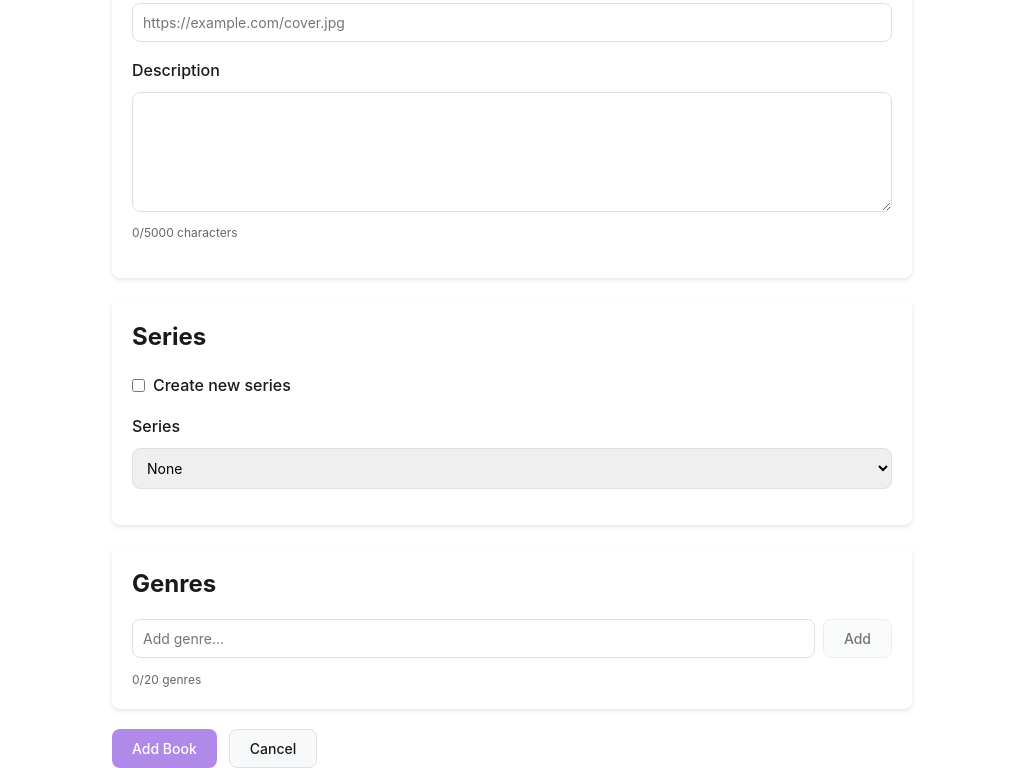
Test: AddBook › Series functionality › should hide position input when series is deselected
The width and height of the screenshot is (1024, 768).
(page scrolled)
Select a series - use querySelector to avoid ambiguity with heading
Select "Test Series by Series Author" in the dropdown with id "seriesId" at (512, 468), box [132,448,892,489]
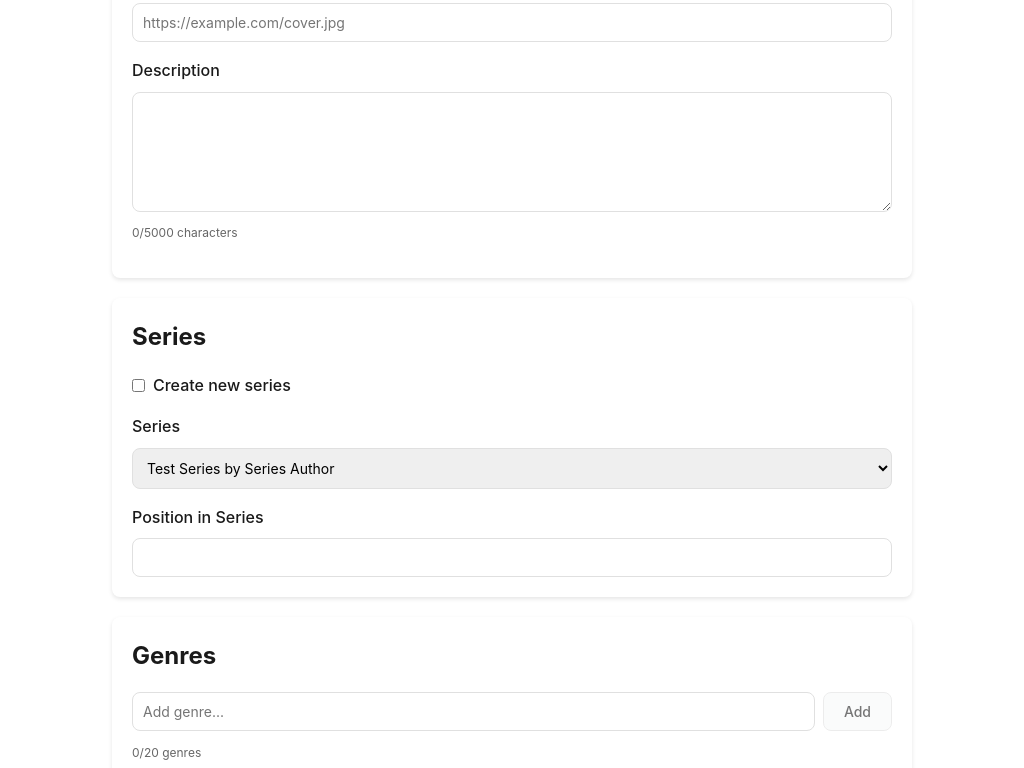
Check: the number field labelled "Position in Series" is shown, box [132,538,892,578]
Deselect series
Select "None" in the dropdown with id "seriesId" at (512, 468), box [132,448,892,489]
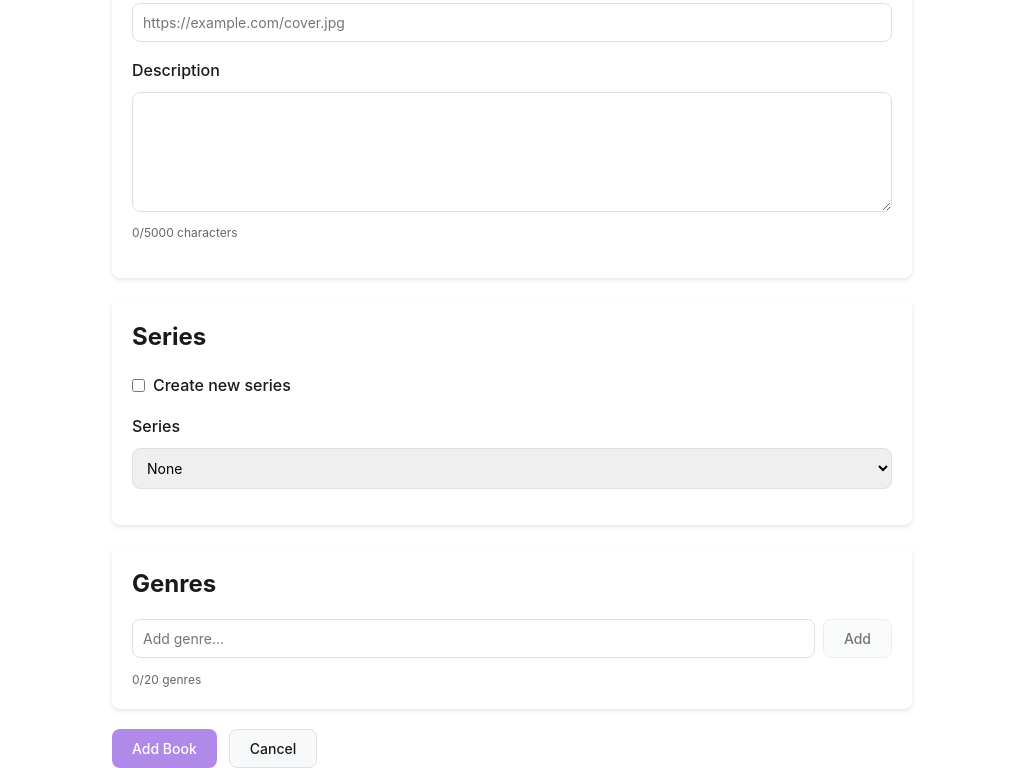
Check: the label labelled "Position in Series" is gone
